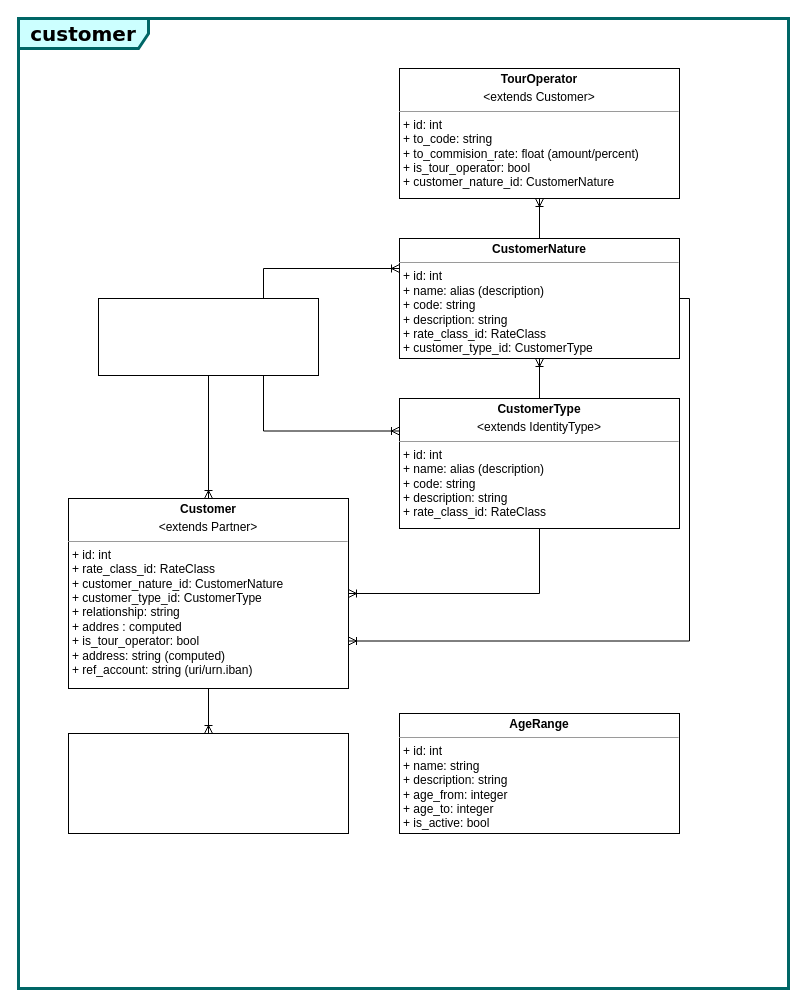
This 807x1007 diagram has some shape labels left out. Each missing label, with the centre of its shape:
Contact + id: int + customer_id : Customer + relationship: string + type: string: pixel 208 783
RateClass + id: int + name:string + description: string: pixel 208 337
